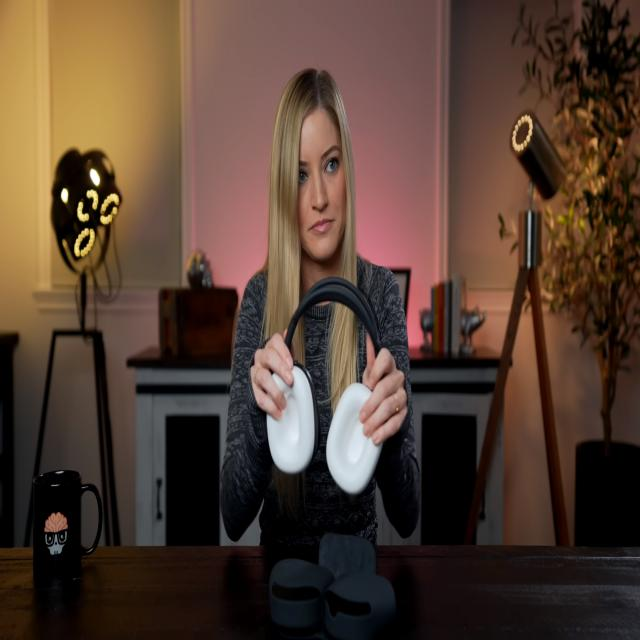Headphone: (264, 273, 388, 499)
